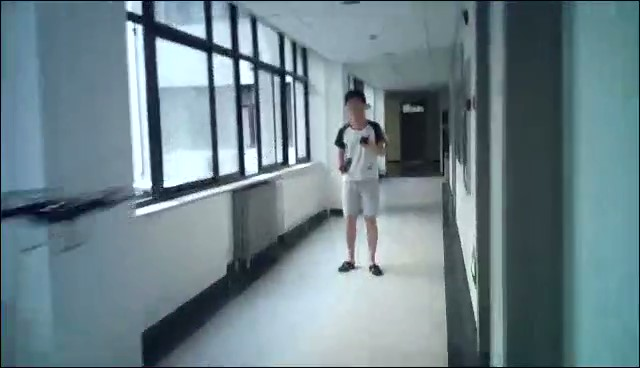drone: (2, 183, 159, 253)
person: (331, 88, 389, 278)
